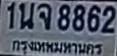1: (6, 1, 14, 28)
2: (101, 5, 115, 32)
6: (87, 4, 100, 31)
8: (57, 3, 69, 29), (72, 4, 84, 30)
A08: (37, 2, 51, 29)
A25: (18, 1, 34, 28)
BKK: (10, 38, 104, 56)
